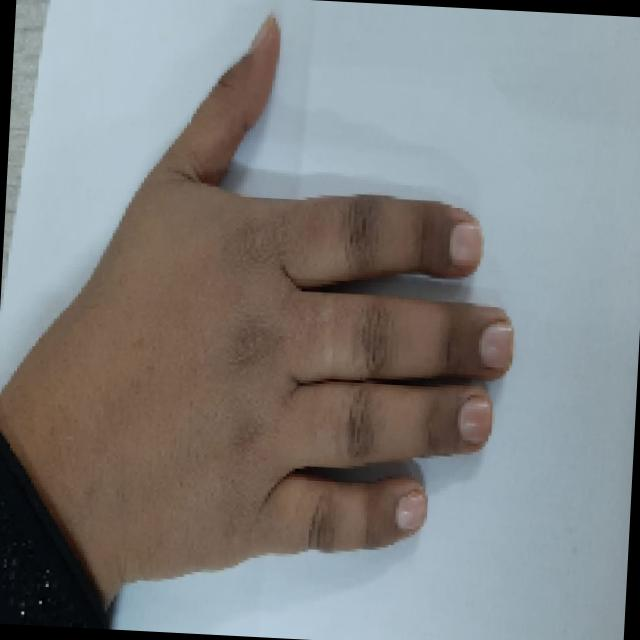Nail: (479, 321, 513, 368), (449, 220, 482, 267), (459, 396, 491, 442), (395, 491, 426, 528), (250, 14, 270, 51)
